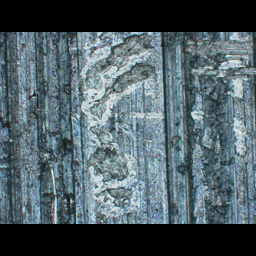d: (82, 32, 164, 218)
